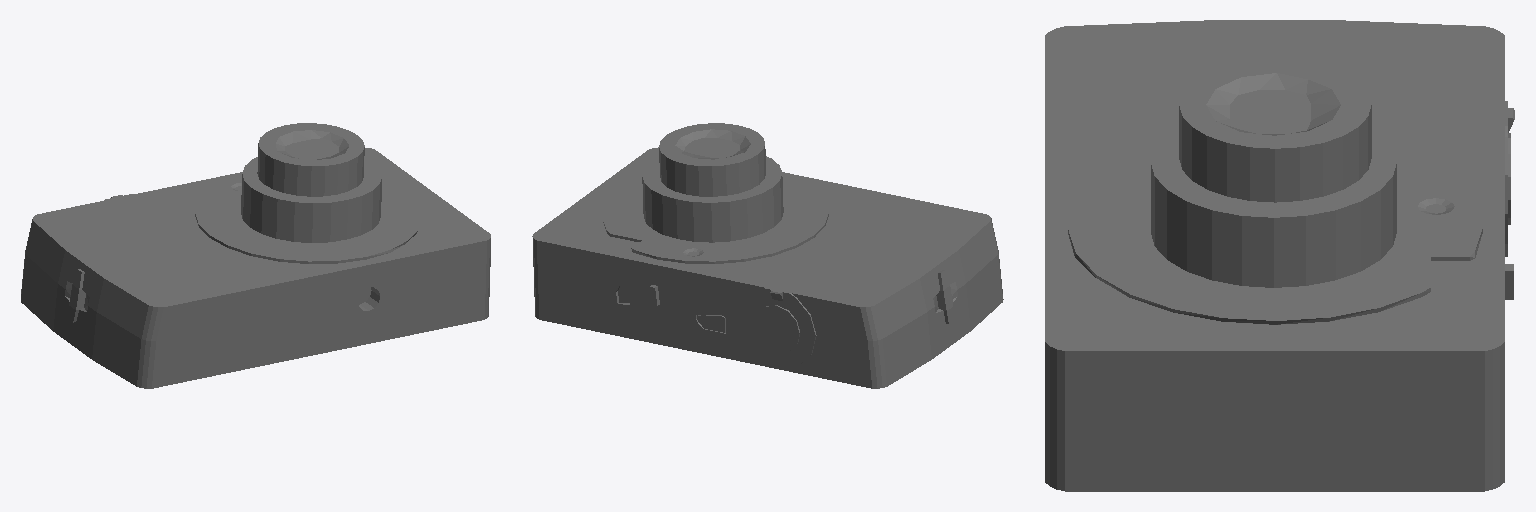
URDF robot description (object):
<?xml version="1.0"?>
<robot name="object">
  <link name="object">
    <visual>
      <origin xyz="0 0 0"/>
      <geometry>
        <mesh
          filename="../../mesh/oakink_virtual/cameras_s114.stl" />
      </geometry>
      <material name="mat">
        <color rgba="0.5 0.5 0.5 1"/>
      </material>
    </visual>

    <collision>
      <origin xyz="0 0 0"/>
      <geometry>
        <mesh
          filename="../../mesh/oakink_virtual/cameras_s114.stl" />
      </geometry>
    </collision>
  </link>
</robot>

--- Render facts (derived) ---
The picture shows the robot from 3 angles, left to right: view 1: azimuth 30°, elevation 25°; view 2: azimuth 150°, elevation 25°; view 3: azimuth 270°, elevation 25°; orthographic projection.
Robot: object — 1 links, 0 joints (none); root link object; default pose: all joints at 0.
Links seen in each view (by area): view 1: object; view 2: object; view 3: object.
Link boxes in pixels (x1,y1,x2,y2): object: (21,123,490,388); object: (532,123,1003,388); object: (1045,20,1514,491).
Size in the robot's own frame: 0.1194 by 0.0743 by 0.0497 metres.
Meshes: 1 distinct files referenced, 1 mesh visuals loaded (1 binary STL).
